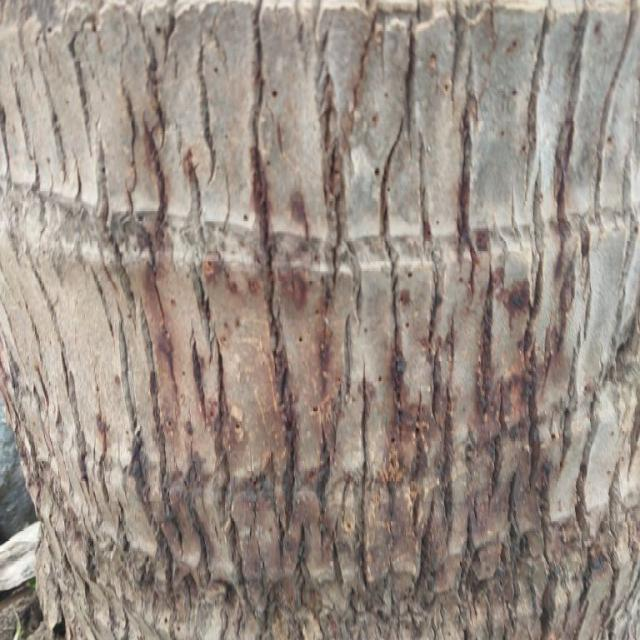stembleeding: (114, 189, 601, 639)
